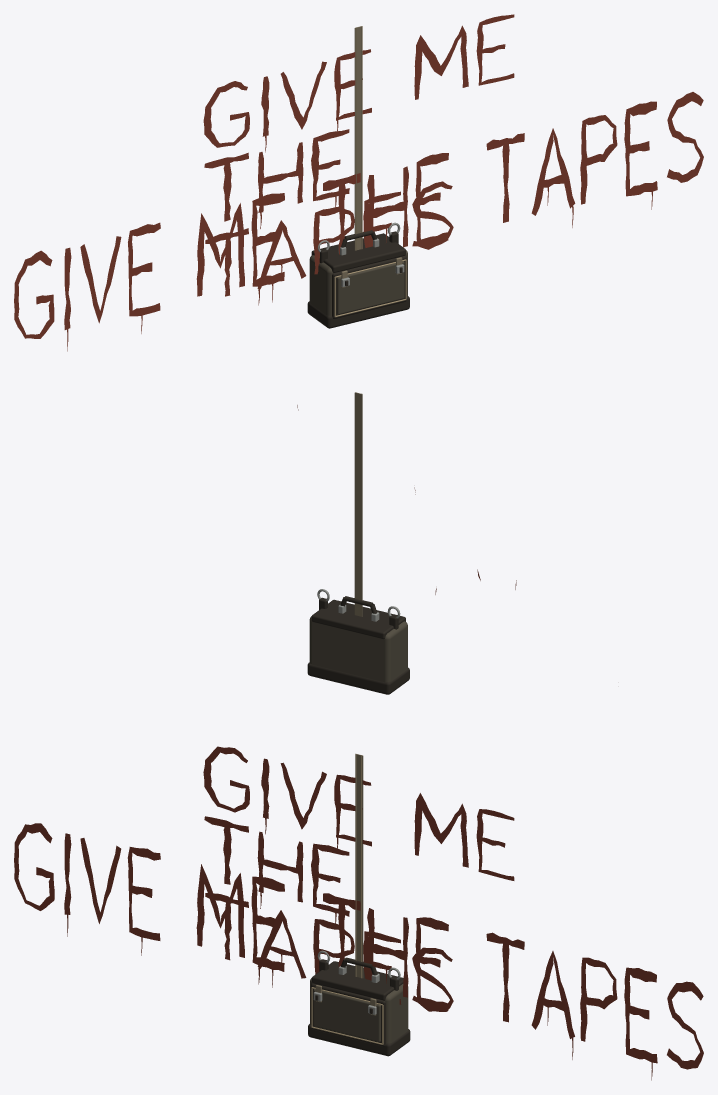
File: chapel-tape-demand.glb
3 views of the same model, one above another, from view 1: azimuth 30°, elevation 25°; view 2: azimuth 150°, elevation 25°; view 3: azimuth 330°, elevation 25° (orthographic).
Parts seen in each view (by area): view 1: tape_demand_paint_line, tape_demand_paint_block, tape_demand_field_case, tape_demand_strap; view 2: tape_demand_field_case, tape_demand_strap; view 3: tape_demand_paint_line, tape_demand_paint_block, tape_demand_field_case, tape_demand_strap.
Boxes of the visible parts, box(x1,y1,x2,y2) form: tape_demand_paint_line: box(14, 92, 703, 351); tape_demand_paint_block: box(203, 14, 514, 305); tape_demand_field_case: box(307, 222, 409, 328); tape_demand_strap: box(354, 26, 362, 250); tape_demand_field_case: box(307, 589, 409, 694); tape_demand_strap: box(354, 392, 362, 616); tape_demand_paint_line: box(14, 823, 703, 1080); tape_demand_paint_block: box(203, 746, 514, 1011); tape_demand_field_case: box(308, 950, 410, 1056); tape_demand_strap: box(355, 753, 363, 978).
Bounding box in the file's own units: 2.84 × 1.12 × 0.1915.
